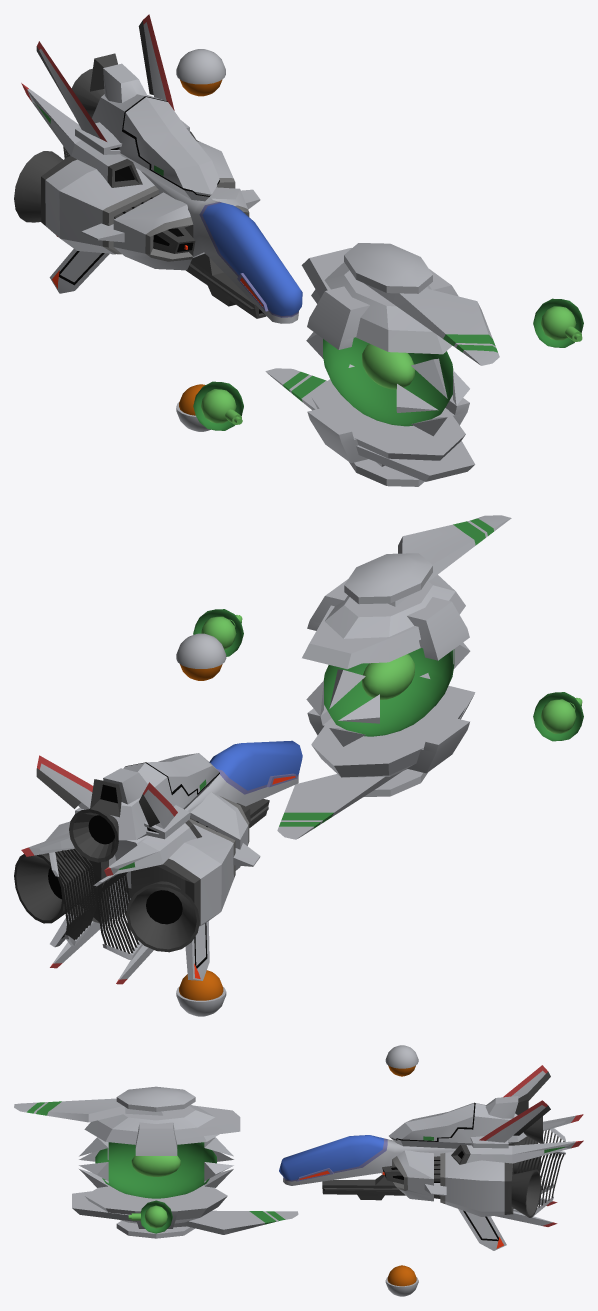
The model's file is ship.glb.
3 renders of one model, top to bottom at view 1: azimuth 30°, elevation 25°; view 2: azimuth 150°, elevation 25°; view 3: azimuth 270°, elevation 25°, orthographic. The views are drawn at different scales.
Visible parts, largest first — view 1: Object_3; view 2: Object_3; view 3: Object_3.
Boxes of the visible parts, x1,y1,x2,y2 form: Object_3: [14, 14, 583, 486]; Object_3: [14, 515, 583, 1016]; Object_3: [14, 1045, 583, 1296].
Size of the model in its own units: 10.52 by 9.91 by 20.6.
Materials: 1 (1 with a texture image).
